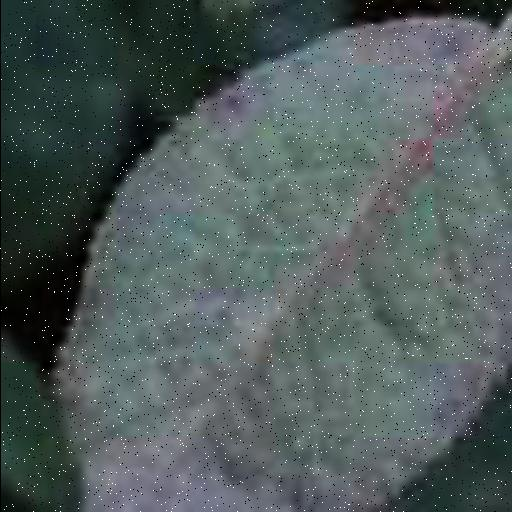powdery_mildew: (53, 14, 512, 512)
